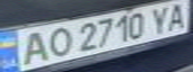0: (127, 9, 151, 39)
1: (112, 12, 133, 43)
2: (75, 20, 100, 53)
7: (93, 16, 118, 48)
A: (12, 28, 54, 65), (160, 1, 193, 31)
O: (39, 25, 75, 58)
Y: (145, 3, 175, 35)
